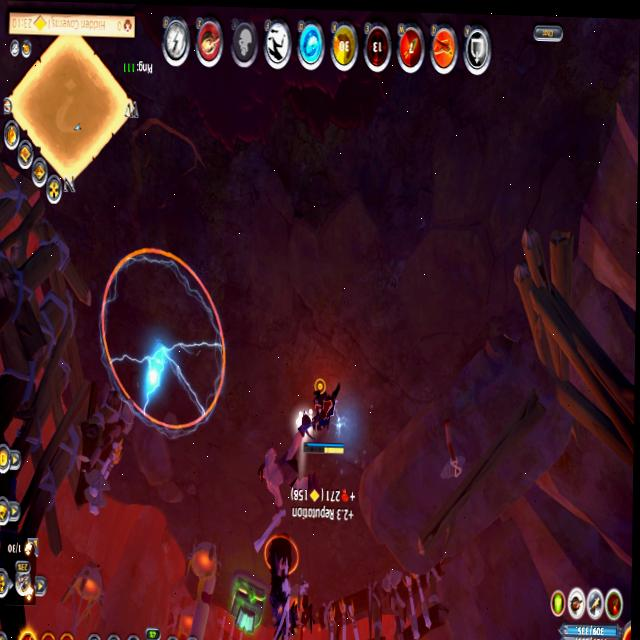ore: (250, 529, 305, 640)
red: (300, 367, 349, 459)
silver: (103, 253, 221, 425)
stone: (294, 402, 319, 442)
